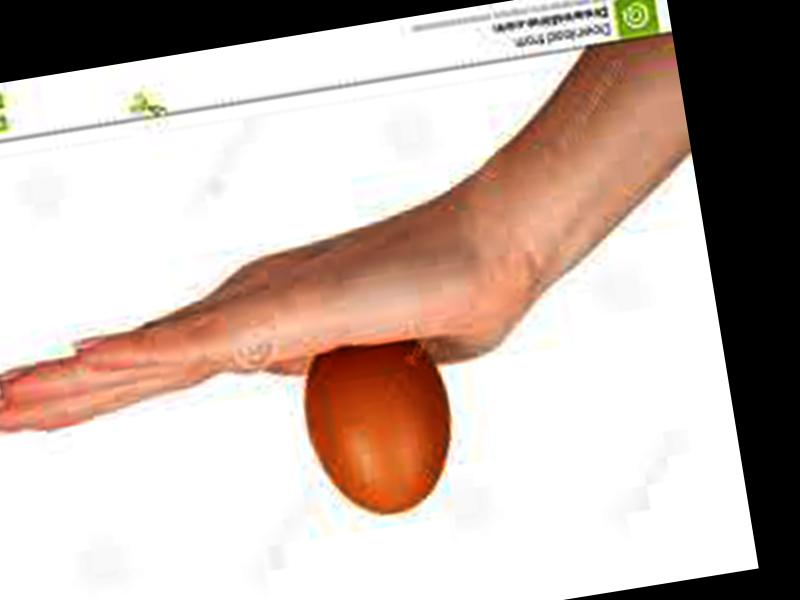Eggs: (294, 329, 460, 524)
